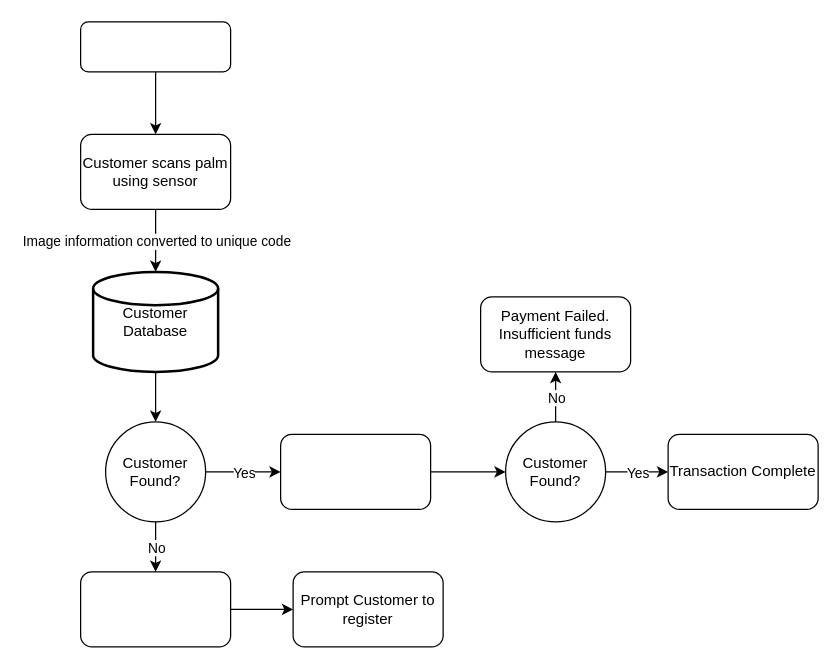
The diagram is 840 pixels wide and 669 high, and some of its shapes have lost their labels. The shapes that lost their labels are listed below. From the top down, each one's box as (x1, y1, x2, y2) in pixels, then its label:
(79, 21, 231, 72): Point of Sale
(279, 433, 431, 509): Wallet information retrieved for customer
(79, 571, 231, 647): Payment Declined
